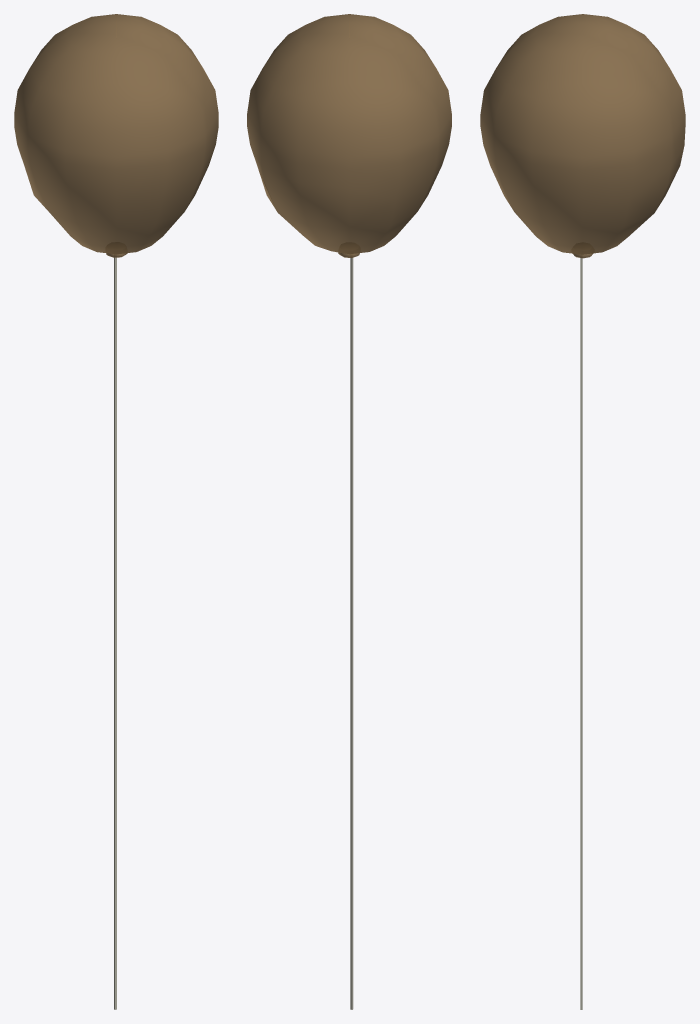
Rendered from Balloon_Orange.fbx.
The picture shows the model from 3 angles, left to right: view 1: azimuth 30°, elevation 25°; view 2: azimuth 150°, elevation 25°; view 3: azimuth 270°, elevation 25°; orthographic projection.
Parts seen in each view (by area): view 1: Balloon_Orange; view 2: Balloon_Orange; view 3: Balloon_Orange.
Boxes of the visible parts, x1,y1,x2,y2 form: Balloon_Orange: (14, 14, 218, 1009); Balloon_Orange: (247, 14, 451, 1009); Balloon_Orange: (480, 14, 685, 1009).
Bounding box in the file's own units: 49.42 × 263 × 49.42.
